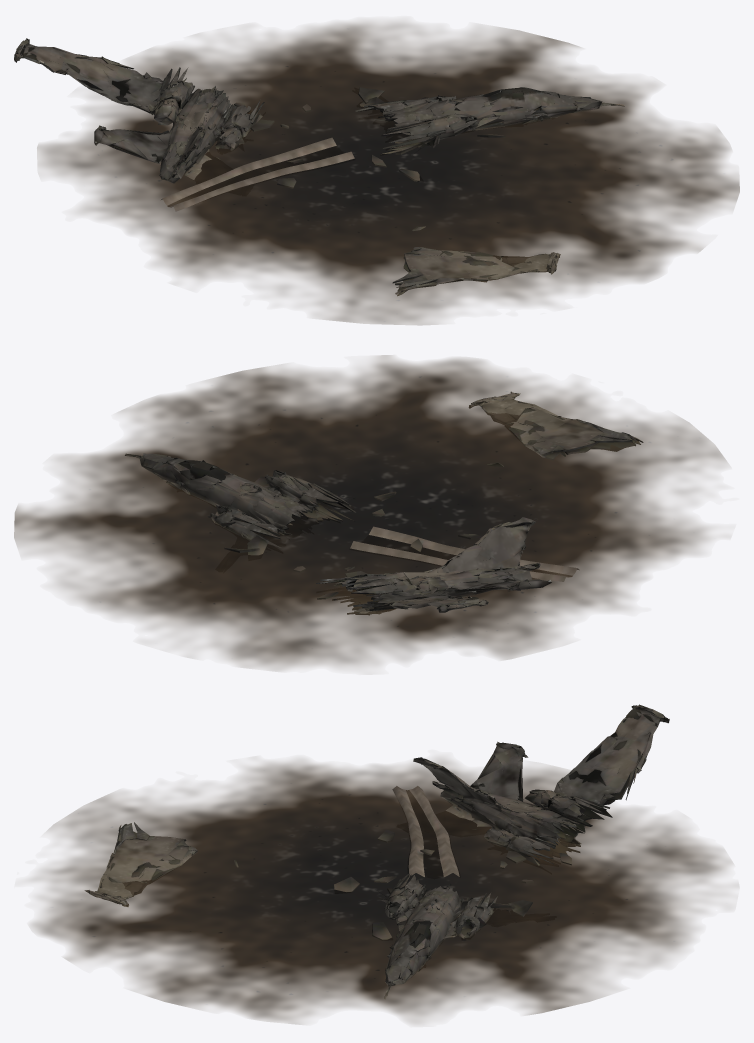
File: b11_wreck_plane_c.glb
The picture shows the model from 3 angles, top to bottom: view 1: azimuth 30°, elevation 25°; view 2: azimuth 150°, elevation 25°; view 3: azimuth 270°, elevation 25°; orthographic projection. The views are drawn at different scales.
Visible parts, largest first — view 1: scorch, wreck; view 2: scorch, wreck; view 3: scorch, wreck.
Boxes of the visible parts, x1=… form: scorch: x1=37, y1=22, x2=739, y2=325; wreck: x1=14, y1=38, x2=624, y2=295; scorch: x1=14, y1=355, x2=726, y2=670; wreck: x1=125, y1=391, x2=643, y2=615; scorch: x1=31, y1=758, x2=732, y2=1024; wreck: x1=84, y1=704, x2=669, y2=999.
Size of the model in its own units: 1.14 by 0.1452 by 1.24.
Materials: 2 (2 with a texture image).
